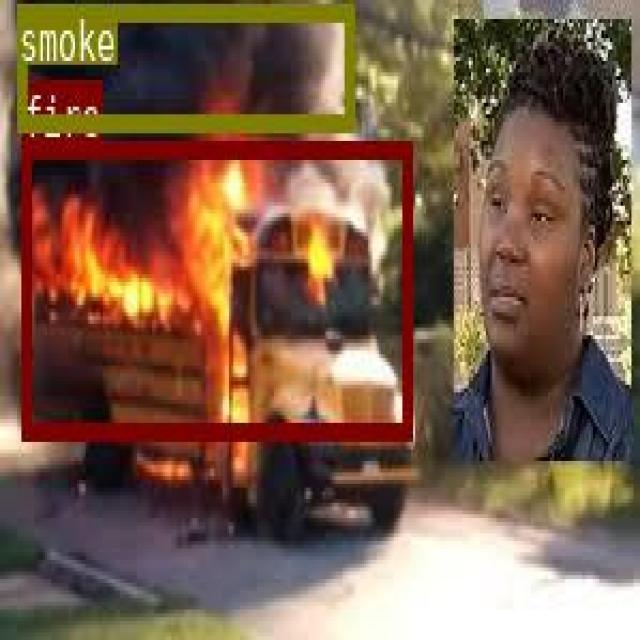fire: (21, 139, 411, 437)
smoke: (16, 1, 351, 126)
